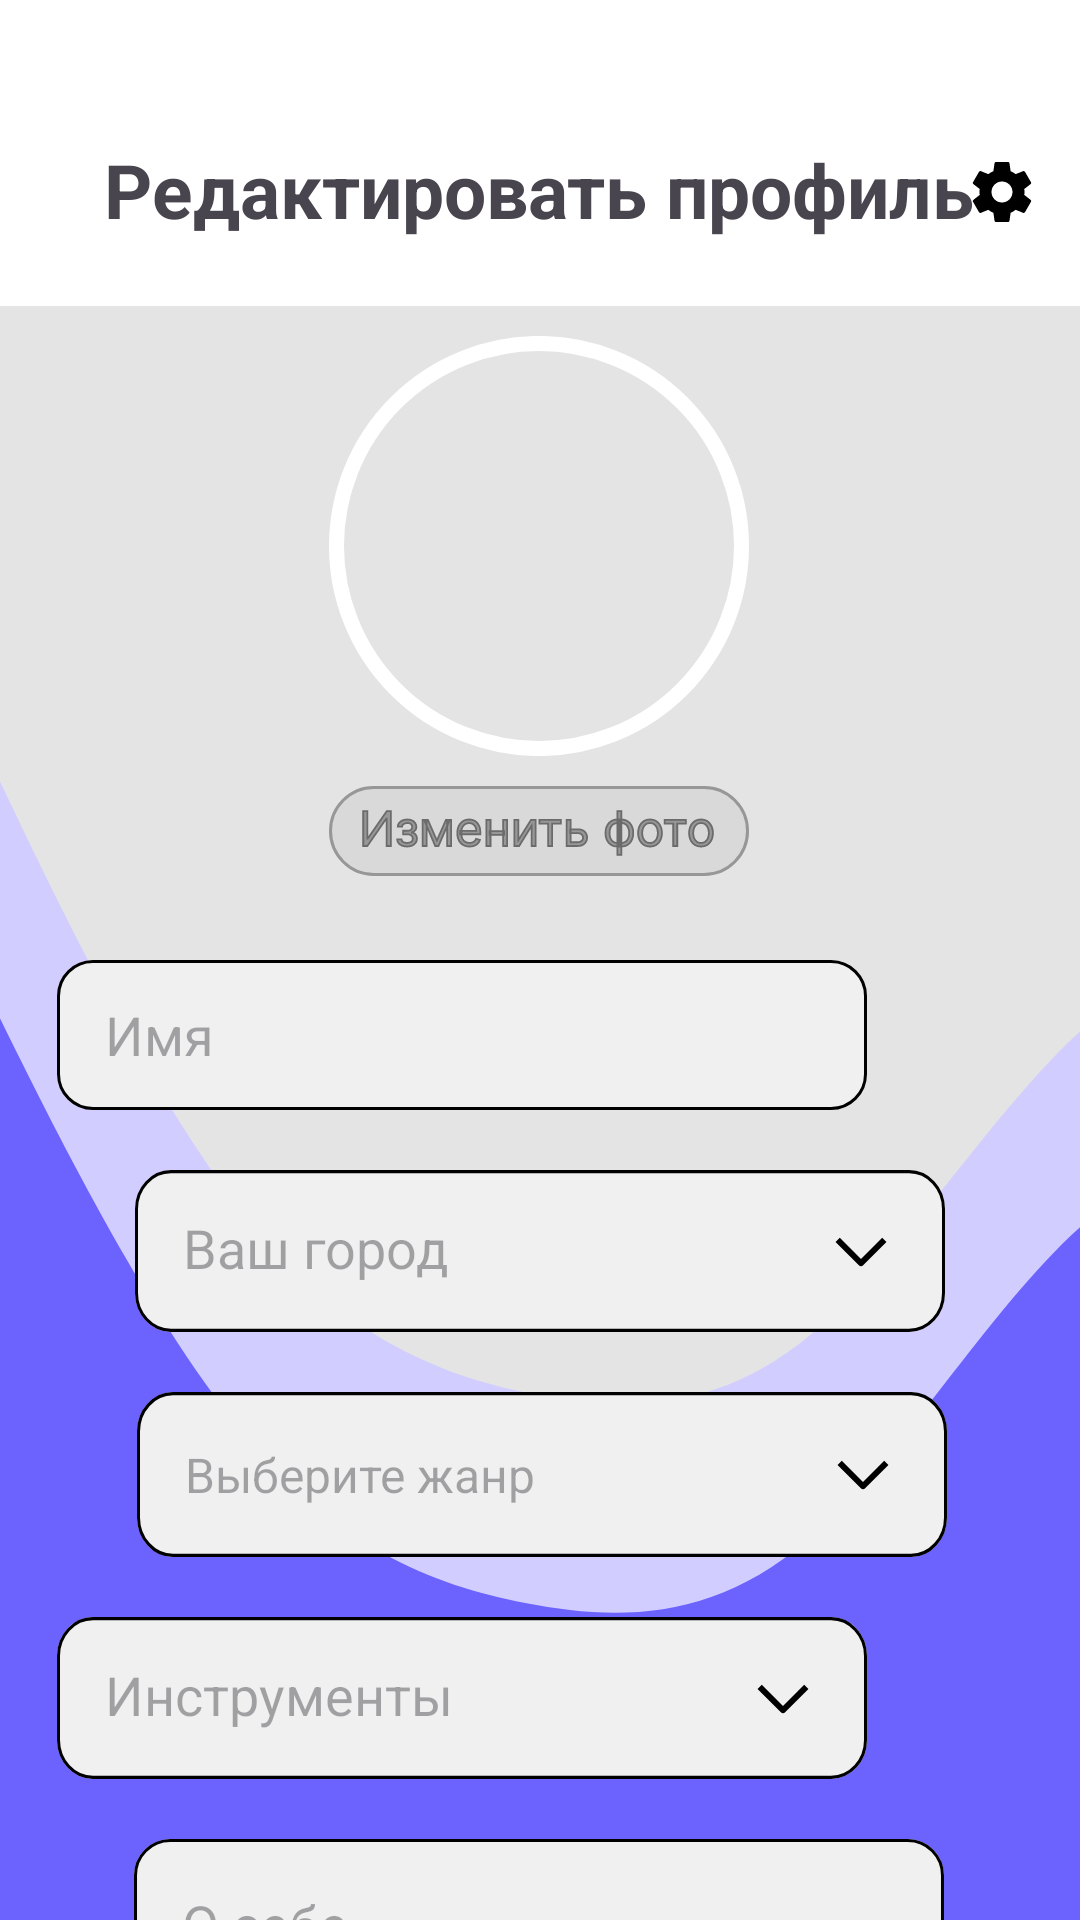

Screen size 1080w x 1920h. Icon name, then its center in pixels as [x,y]:
gear: [998,192]
